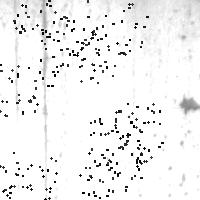pitted_surface: (48, 3, 103, 198), (114, 113, 199, 200), (39, 28, 98, 85), (88, 118, 143, 177), (66, 20, 125, 75), (79, 143, 139, 197), (107, 103, 161, 162), (87, 0, 146, 53), (0, 152, 55, 200), (0, 60, 36, 115), (12, 0, 67, 36), (176, 92, 200, 116)
